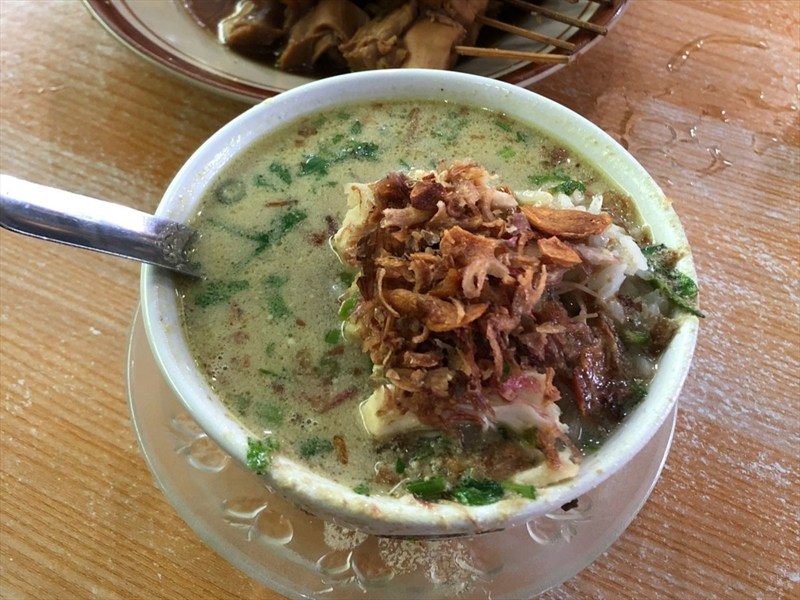Soto Ayam: (112, 14, 693, 521)
